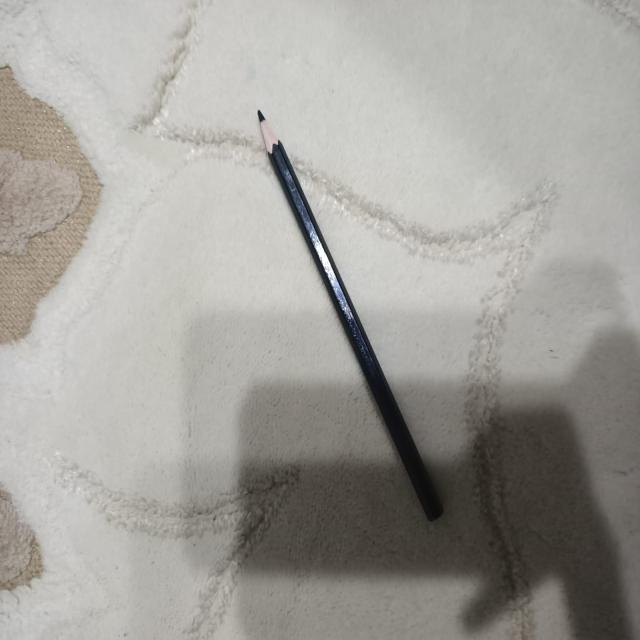pencil: (258, 111, 443, 521)
